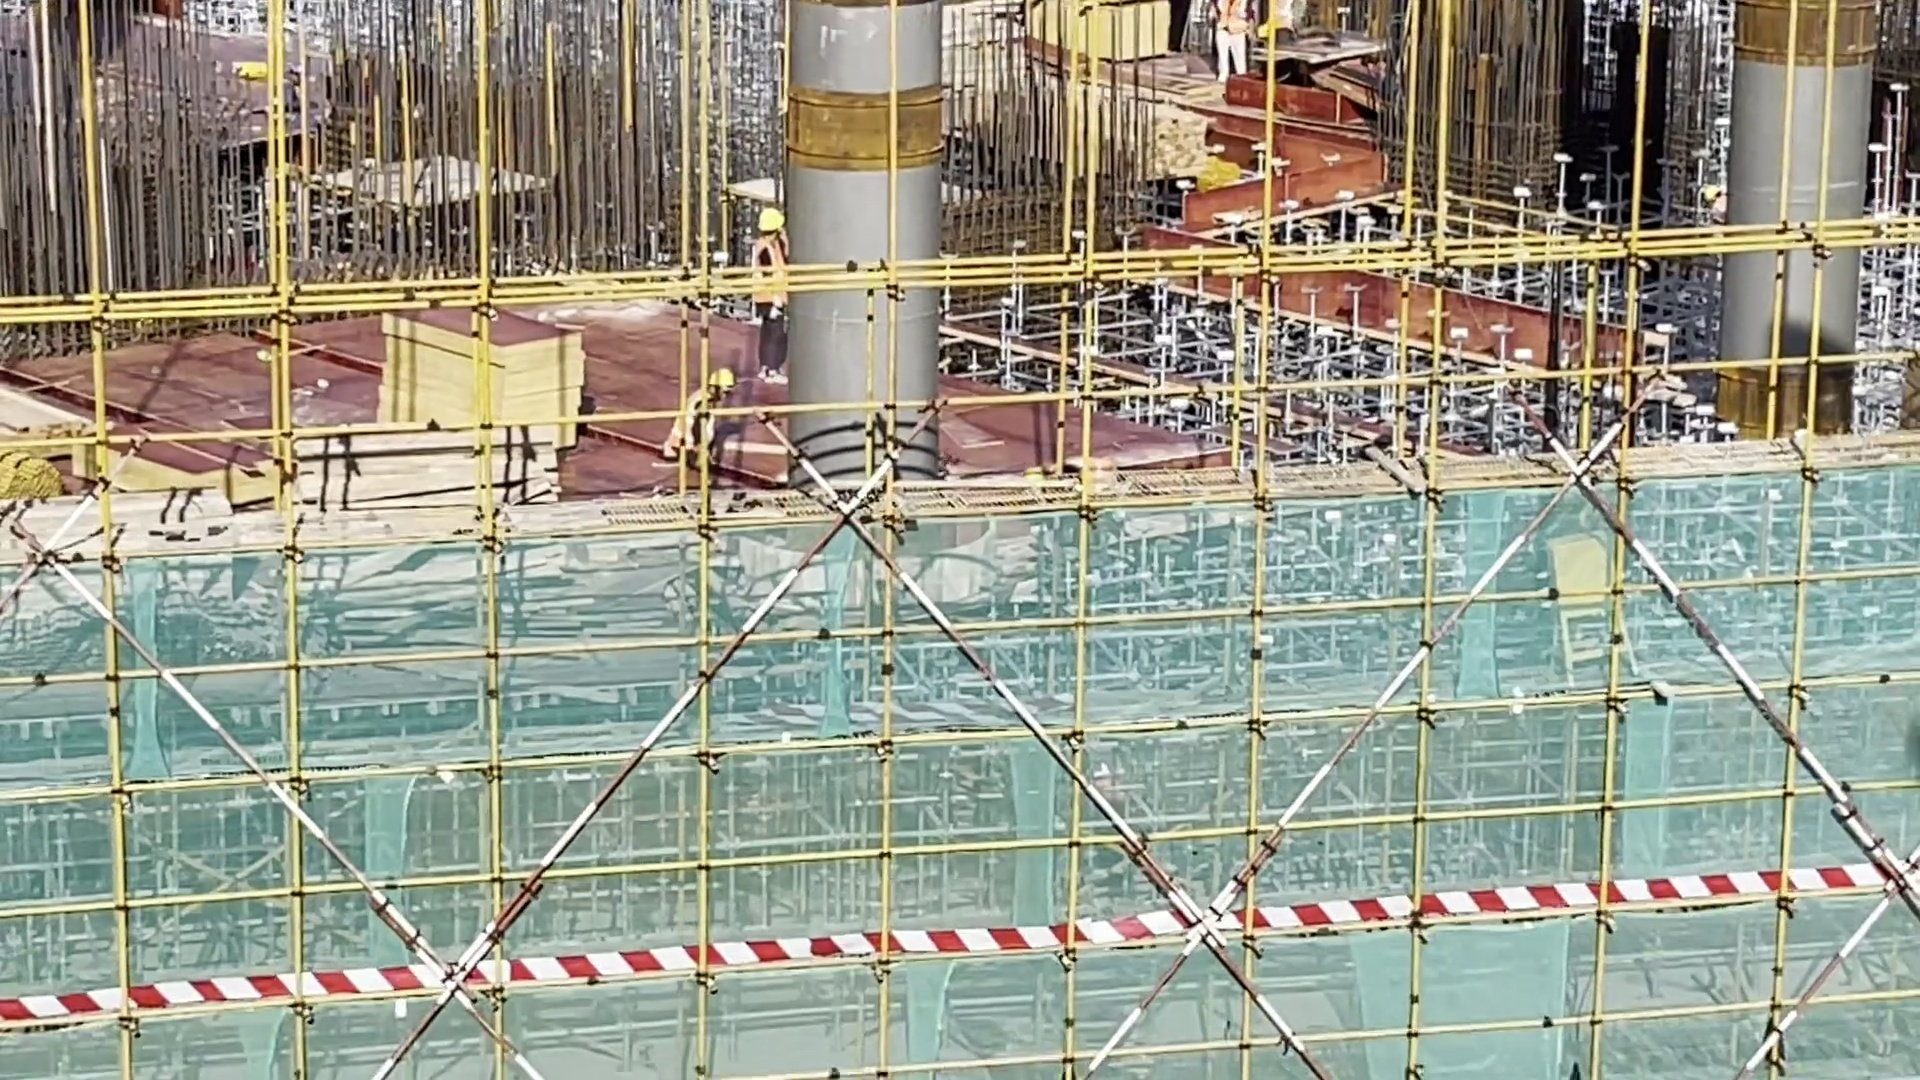board: (375, 284, 594, 461)
ebox: (1545, 527, 1643, 689)
helmet: (755, 205, 786, 241), (712, 366, 737, 393)
person: (750, 206, 806, 390), (658, 365, 741, 483), (1211, 1, 1263, 94)
vest: (670, 385, 721, 454), (751, 243, 795, 315), (1217, 1, 1250, 38)
wood: (279, 416, 543, 542), (1, 359, 105, 499)
